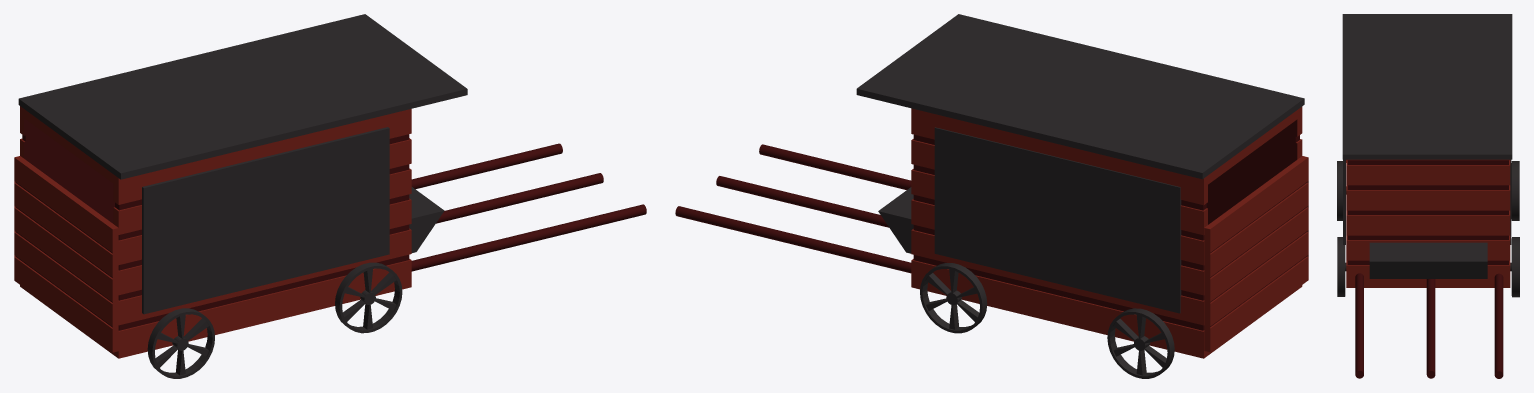
File: Schlachterwagen2.FBX
3 views of the same model, side by side, from view 1: azimuth 30°, elevation 25°; view 2: azimuth 150°, elevation 25°; view 3: azimuth 270°, elevation 25° (orthographic). The views are drawn at different scales.
Visible parts, largest first — view 1: Quader007, Quader009, Quader006, Quader005, Zylinder008, Zylinder003, Zylinder002, Zylinder009, Zylinder007, Quader003; view 2: Quader007, Quader008, Quader006, Quader005, Zylinder007, Zylinder004, Zylinder001, Zylinder009, Zylinder008, Quader003; view 3: Quader007, Quader006, Quader003, Zylinder007, Zylinder009, Zylinder008, Zylinder004, Zylinder001, Zylinder003, Zylinder002, Quader009, Quader008.
Part boxes in pixels (<box>): Quader007: <box>18,14,467,179</box>; Quader009: <box>142,127,389,314</box>; Quader006: <box>20,106,411,358</box>; Quader005: <box>14,156,118,352</box>; Zylinder008: <box>411,204,646,271</box>; Zylinder003: <box>335,262,402,333</box>; Zylinder002: <box>147,308,214,378</box>; Zylinder009: <box>436,173,603,223</box>; Zylinder007: <box>411,143,562,189</box>; Quader003: <box>409,187,444,252</box>; Quader007: <box>856,14,1304,179</box>; Quader008: <box>934,127,1181,313</box>; Quader006: <box>911,106,1302,358</box>; Quader005: <box>1204,156,1308,351</box>; Zylinder007: <box>675,206,911,273</box>; Zylinder004: <box>920,263,987,333</box>; Zylinder001: <box>1107,308,1174,378</box>; Zylinder009: <box>716,176,888,227</box>; Zylinder008: <box>759,144,911,189</box>; Quader003: <box>878,187,913,253</box>; Quader007: <box>1342,14,1512,159</box>; Quader006: <box>1346,159,1510,287</box>; Quader003: <box>1369,242,1487,278</box>; Zylinder007: <box>1494,273,1503,378</box>; Zylinder009: <box>1426,279,1435,378</box>; Zylinder008: <box>1355,273,1363,378</box>; Zylinder004: <box>1511,237,1519,297</box>; Zylinder001: <box>1511,161,1519,220</box>; Zylinder003: <box>1337,237,1345,296</box>; Zylinder002: <box>1337,161,1342,220</box>; Quader009: <box>1343,159,1345,244</box>; Quader008: <box>1510,159,1511,244</box>.
Size of the model in its own units: 179 by 68.71 by 63.21.
